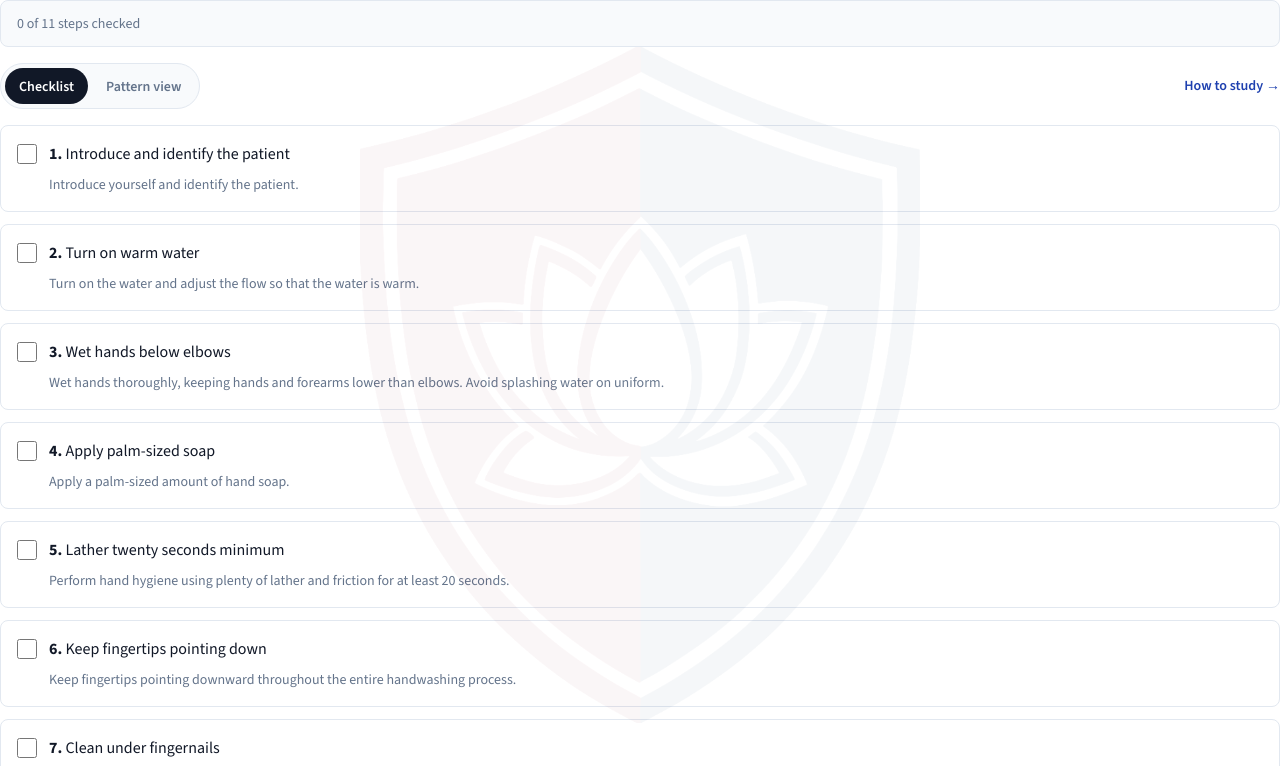
Test case: SimplifiedSkillChecklist › shows FLAME badges in pattern view
The width and height of the screenshot is (1280, 766).
Click the button "Pattern view": (144, 86) [92,68,195,104]
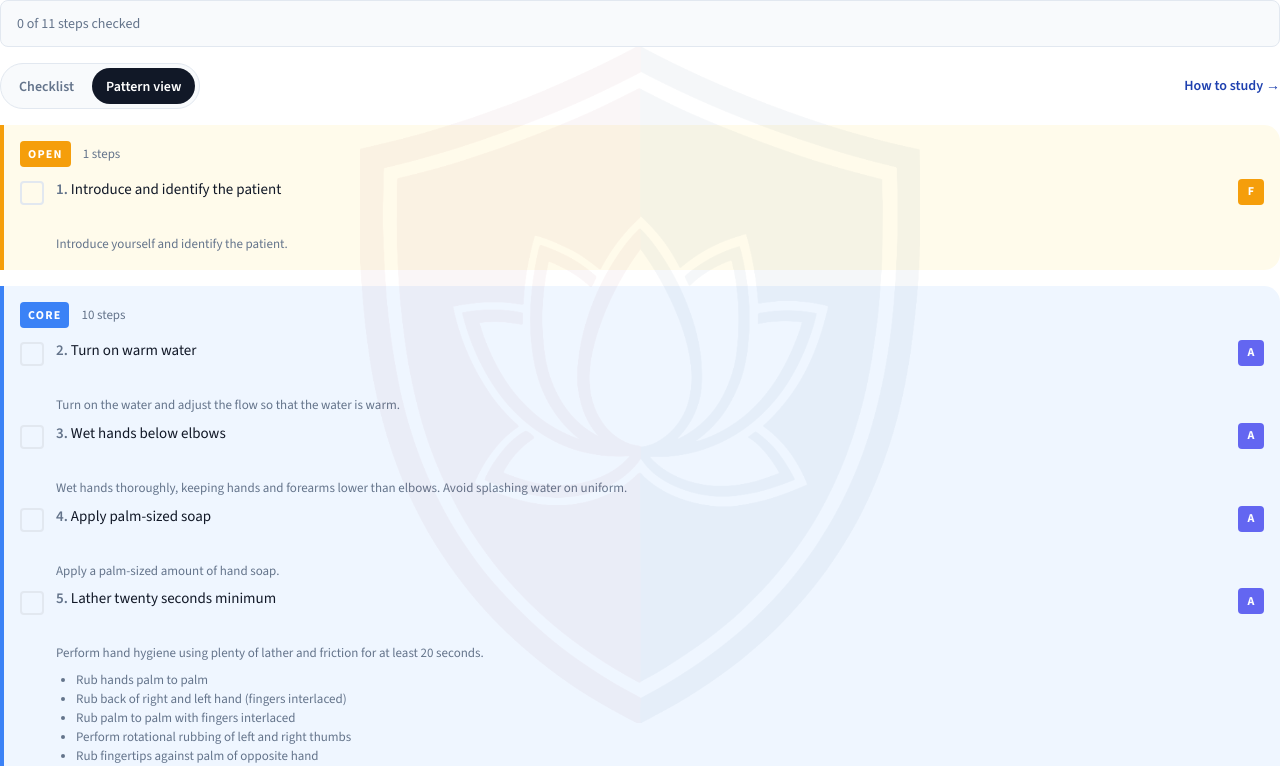
Expected: the text named "FLAME F" is shown, [1238,179,1264,205]
Expected: the text named "FLAME A" is shown, [1238,340,1264,366]
